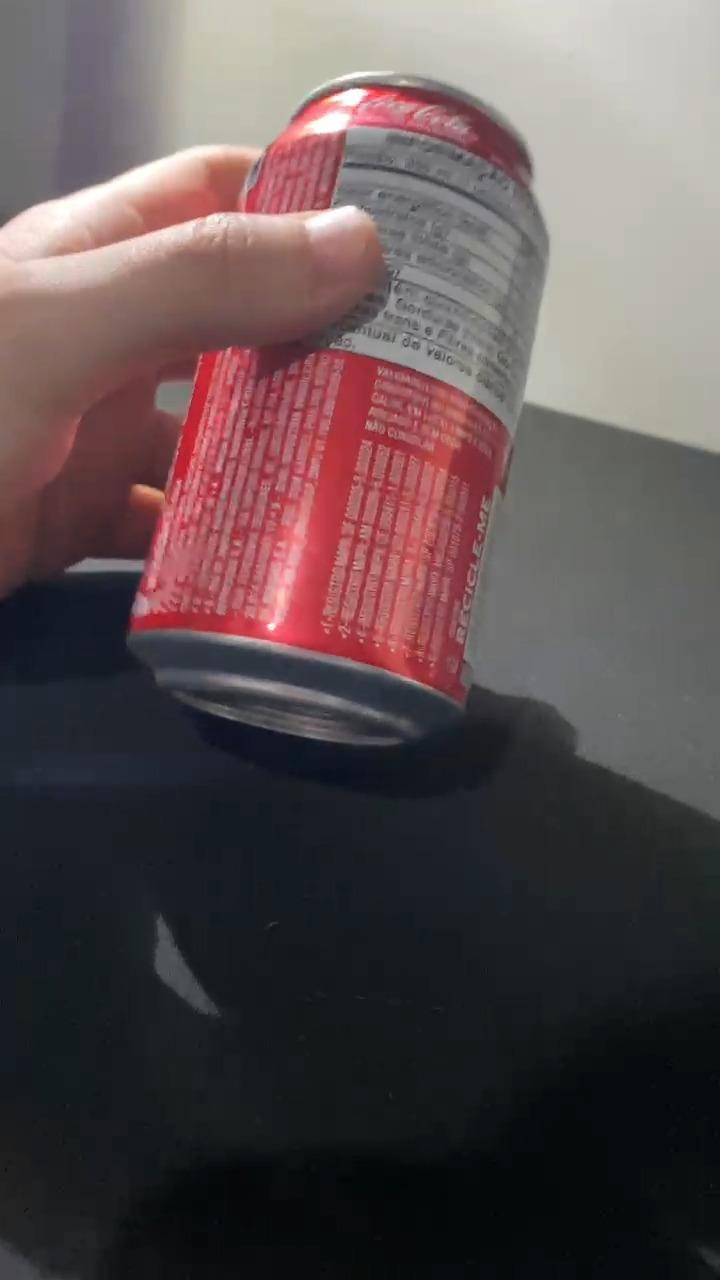coke: (125, 74, 552, 753)
